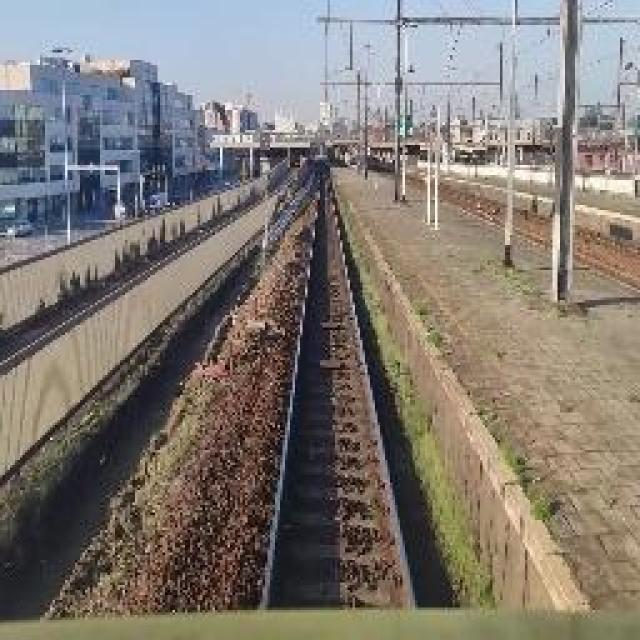rail: (230, 160, 447, 615)
